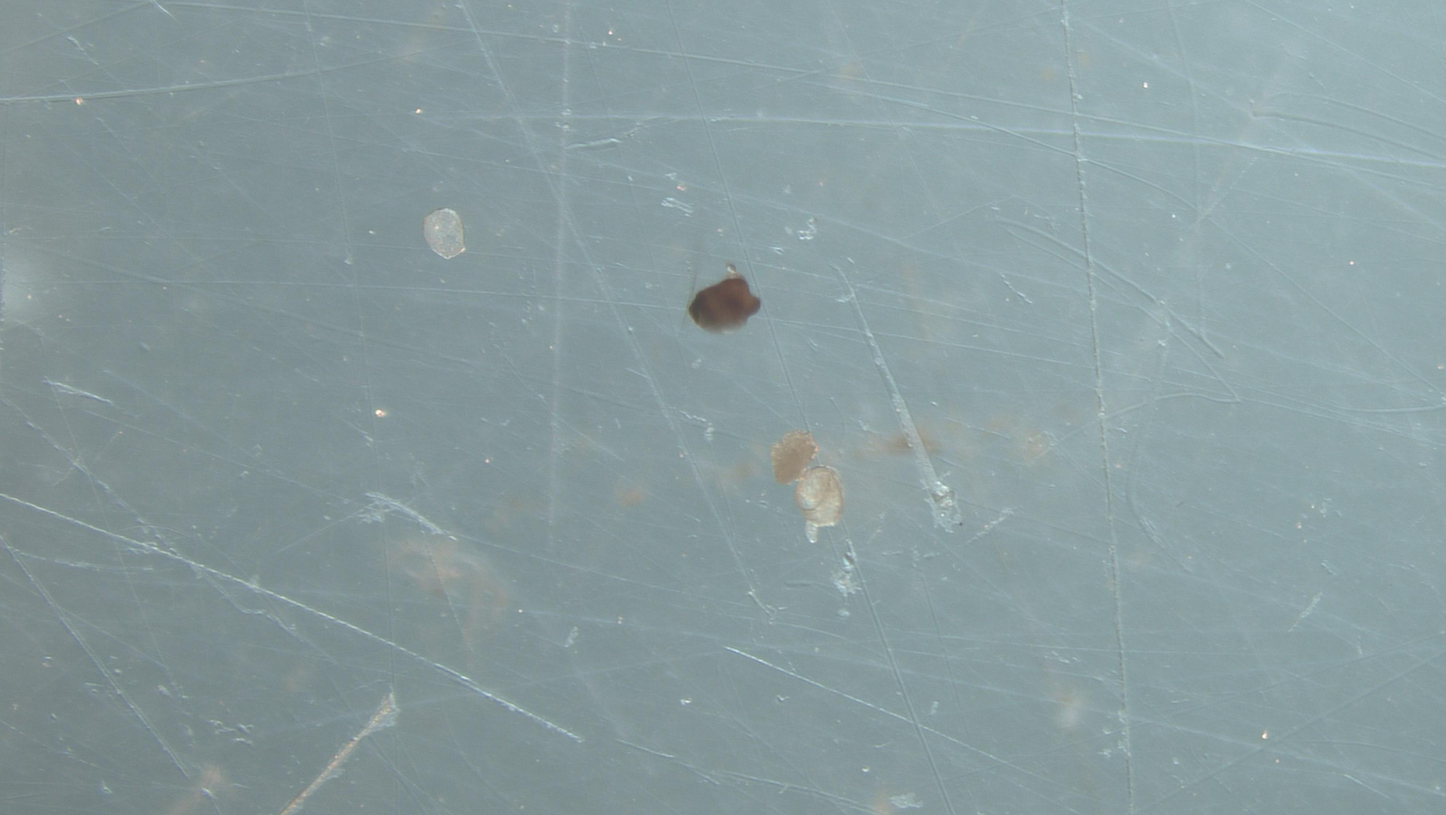dead: (424, 209, 465, 260)
live: (795, 466, 844, 543)
